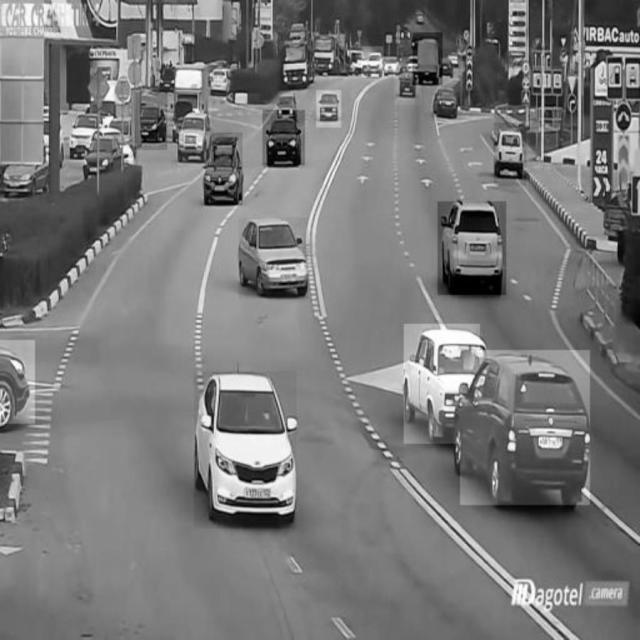vehicle: (460, 350, 590, 504), (194, 372, 296, 529), (404, 324, 480, 444), (438, 202, 506, 295), (239, 218, 309, 299), (1, 341, 36, 424), (206, 133, 243, 205), (263, 110, 305, 165), (81, 124, 122, 179), (278, 32, 312, 93), (495, 123, 527, 187), (177, 107, 211, 163), (136, 93, 168, 150), (413, 33, 443, 85), (394, 63, 421, 105), (431, 88, 463, 122), (316, 91, 341, 128), (362, 47, 384, 77)
